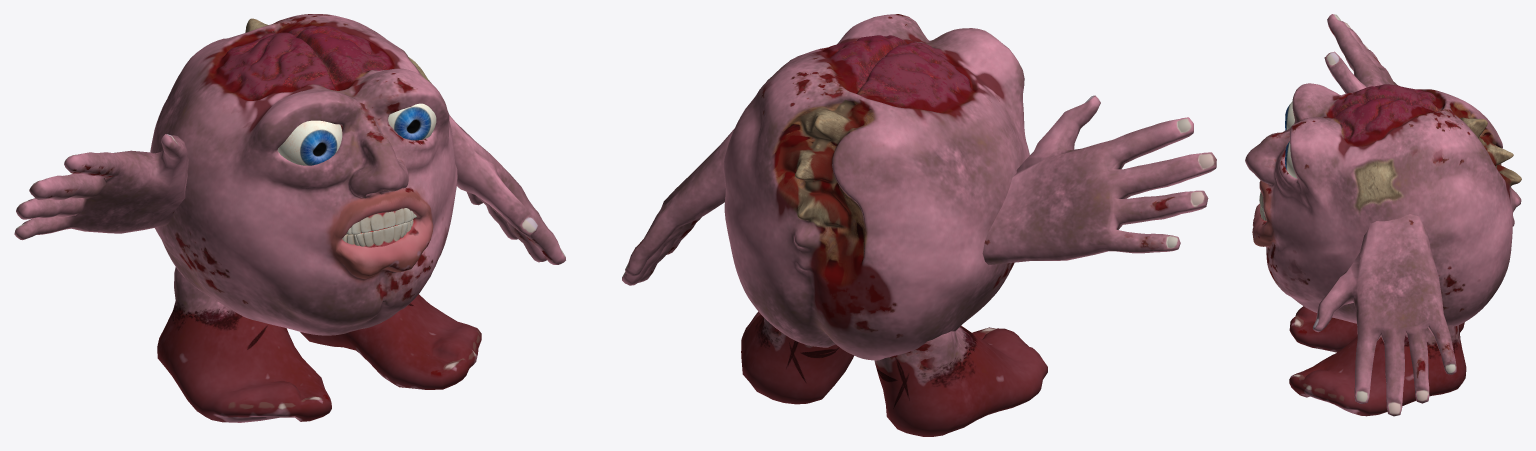
Rendered from KirbySketchfab.fbx.
The picture shows the model from 3 angles, left to right: view 1: azimuth 30°, elevation 25°; view 2: azimuth 150°, elevation 25°; view 3: azimuth 270°, elevation 25°; orthographic projection. The views are drawn at different scales.
Visible parts, largest first — view 1: RenderKirb00, RenderKirb02, RenderKirb03, RenderKirb01; view 2: RenderKirb00, RenderKirb03, RenderKirb02; view 3: RenderKirb00, RenderKirb03, RenderKirb02, RenderKirb01.
Boxes of the visible parts, <box> form: RenderKirb00: <box>150,14,457,335</box>; RenderKirb02: <box>157,267,481,422</box>; RenderKirb03: <box>14,115,565,264</box>; RenderKirb01: <box>277,103,436,247</box>; RenderKirb00: <box>723,14,1029,360</box>; RenderKirb03: <box>622,95,1216,285</box>; RenderKirb02: <box>741,311,1047,436</box>; RenderKirb00: <box>1245,83,1521,328</box>; RenderKirb03: <box>1313,14,1456,416</box>; RenderKirb02: <box>1289,306,1466,416</box>; RenderKirb01: <box>1259,101,1297,220</box>.
Size of the model in its own units: 19.25 by 11.46 by 10.51.
